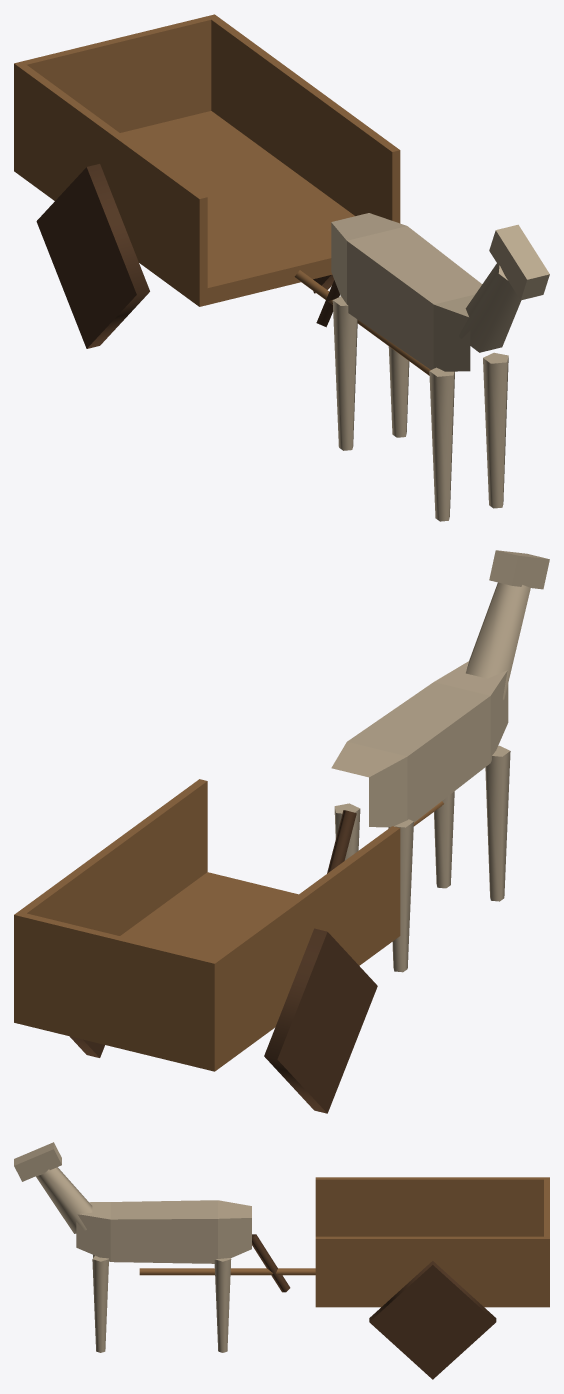
Rendered from veh_ground_cart_a02_lod2.glb.
3 views of the same model, one above another, from view 1: azimuth 30°, elevation 25°; view 2: azimuth 150°, elevation 25°; view 3: azimuth 270°, elevation 25° (orthographic). The views are drawn at different scales.
Visible parts, largest first — view 1: body, animal_0, wheel_0; view 2: body, animal_0, wheel_0; view 3: body, animal_0, wheel_1.
Part boxes in pixels (box(x1,y1,x2,y2)): body: box(14, 14, 430, 375); animal_0: box(316, 213, 549, 521); wheel_0: box(36, 164, 149, 348); body: box(14, 779, 443, 1071); animal_0: box(327, 550, 549, 972); wheel_0: box(264, 928, 377, 1113); body: box(139, 1177, 549, 1307); animal_0: box(14, 1142, 290, 1352); wheel_1: box(369, 1261, 496, 1379).
Size of the model in its own units: 1.8 by 2.23 by 5.49.
